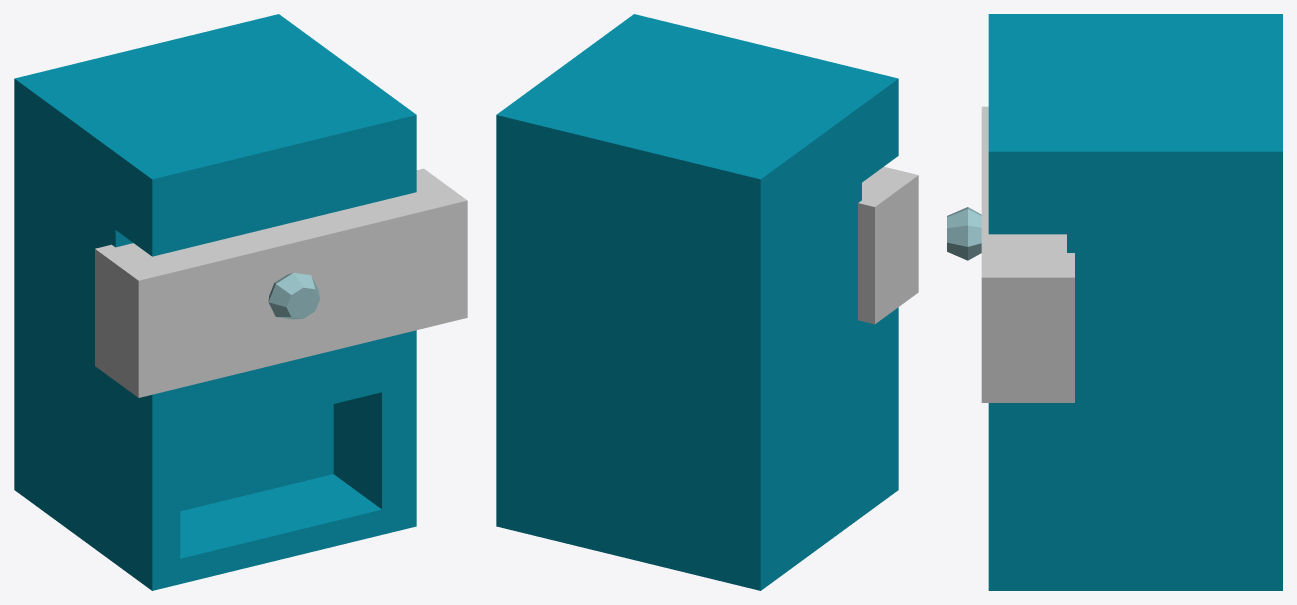
File: Project 149.glb
3 renders of one model, left to right at view 1: azimuth 30°, elevation 25°; view 2: azimuth 150°, elevation 25°; view 3: azimuth 270°, elevation 25°, orthographic. The views are drawn at different scales.
Parts seen in each view (by area): view 1: Mesh_Mesh_head_geo.001_lambert2SG.001; view 2: Mesh_Mesh_head_geo.001_lambert2SG.001; view 3: Mesh_Mesh_head_geo.001_lambert2SG.001.
Boxes of the visible parts, x1,y1,x2,y2 form: Mesh_Mesh_head_geo.001_lambert2SG.001: (14,14,467,590); Mesh_Mesh_head_geo.001_lambert2SG.001: (496,14,918,590); Mesh_Mesh_head_geo.001_lambert2SG.001: (947,14,1282,590).
Bounding box in the file's own units: 58.69 × 70.18 × 48.61.
